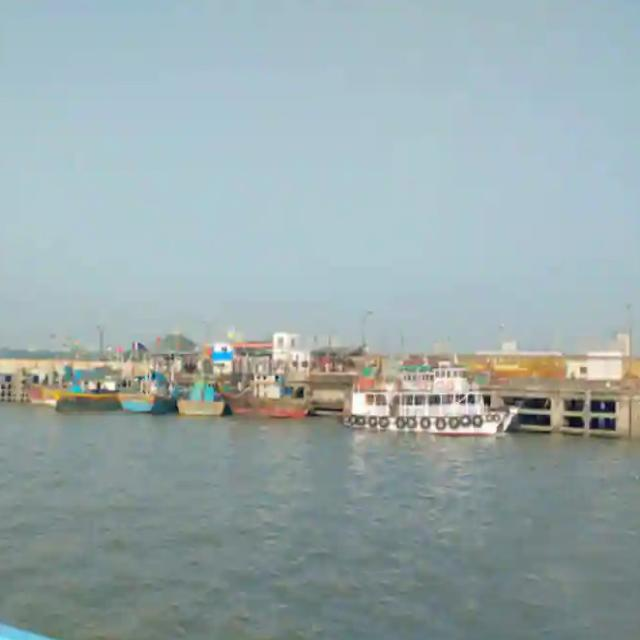passenger ship: (336, 351, 524, 437)
